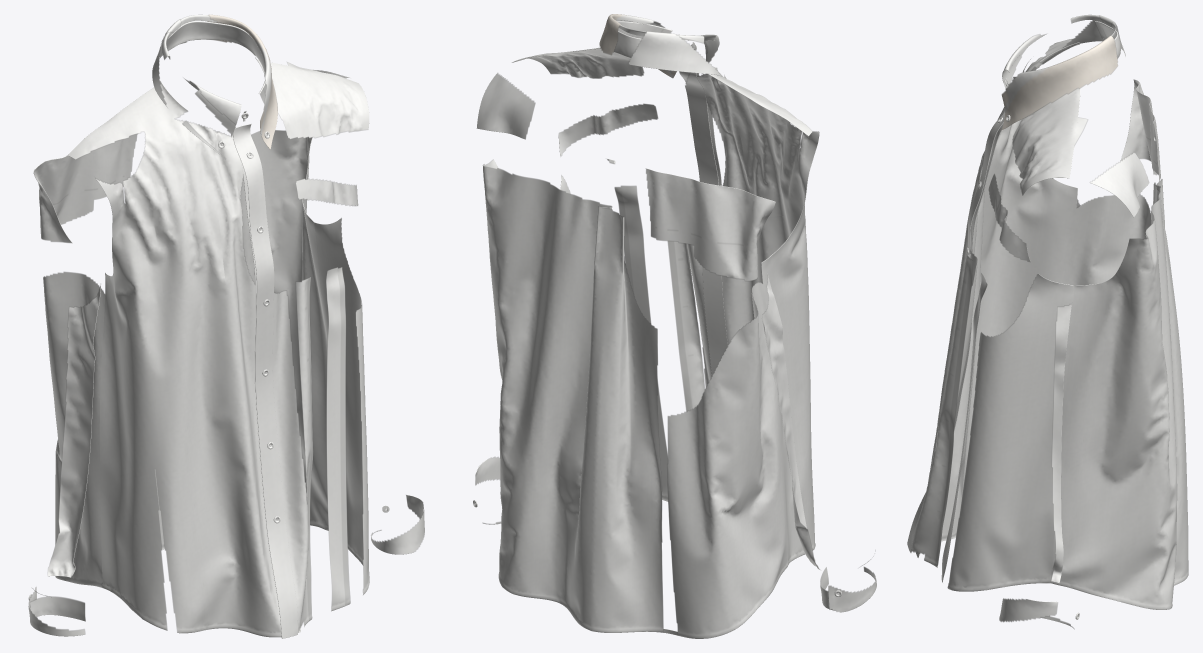
The model's file is Jempir.glb.
3 views of the same model, side by side, from view 1: azimuth 30°, elevation 25°; view 2: azimuth 150°, elevation 25°; view 3: azimuth 270°, elevation 25° (orthographic). The views are drawn at different scales.
Parts seen in each view (by area): view 1: Garment.006; view 2: Garment.006; view 3: Garment.006.
Part boxes in pixels (left/top/right/bottom): Garment.006: left=28, top=14, right=424, bottom=638; Garment.006: left=473, top=14, right=876, bottom=638; Garment.006: left=907, top=14, right=1188, bottom=629.
Size of the model in its own units: 0.6106 by 0.8445 by 0.3944.
2 materials, 2 textured.
